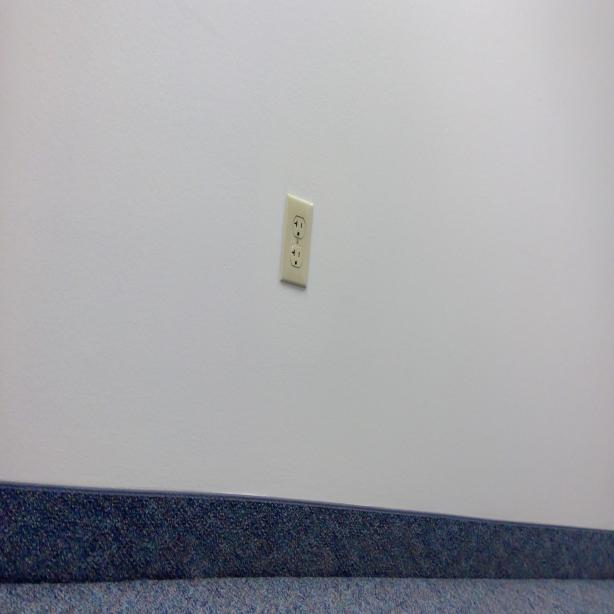typeb: (290, 242, 303, 270), (292, 215, 304, 239)
